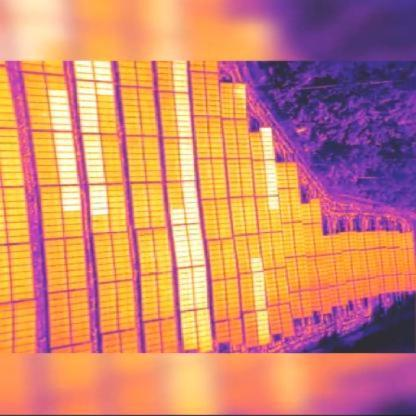anomaly: (172, 60, 214, 353), (72, 59, 110, 216), (169, 207, 200, 351), (47, 90, 82, 212), (250, 257, 270, 346), (260, 128, 281, 209), (93, 59, 114, 95)
